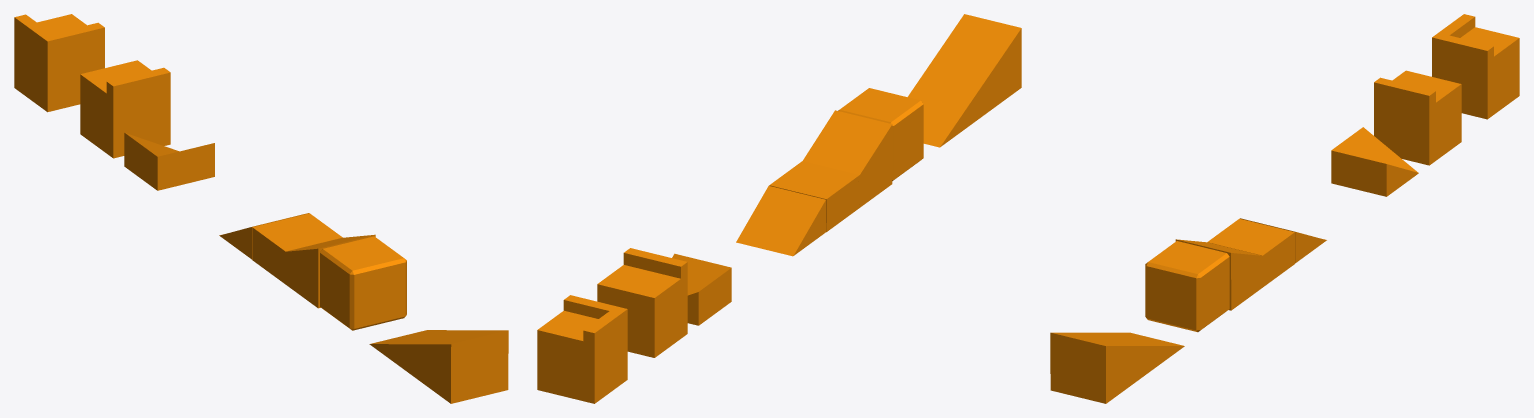
The model's file is sandBlocks.glb.
3 views of the same model, side by side, from view 1: azimuth 30°, elevation 25°; view 2: azimuth 150°, elevation 25°; view 3: azimuth 330°, elevation 25° (orthographic). The views are drawn at different scales.
Visible parts, largest first — view 1: longSlide, edge, cornerEdge, Block, corner, slab, slide, lowerSlide; view 2: longSlide, cornerEdge, edge, slide, lowerSlide, Block, slab, corner; view 3: edge, longSlide, cornerEdge, Block, corner, slab, slide, lowerSlide.
Boxes of the visible parts, <box> form: longSlide: <box>369,330,508,403</box>; edge: <box>80,60,170,158</box>; cornerEdge: <box>14,14,104,112</box>; Block: <box>320,236,406,330</box>; corner: <box>124,132,214,190</box>; slab: <box>252,213,342,283</box>; slide: <box>284,234,375,308</box>; lowerSlide: <box>219,213,309,259</box>; longSlide: <box>908,14,1021,147</box>; cornerEdge: <box>537,295,627,403</box>; edge: <box>597,248,687,357</box>; slide: <box>803,110,892,207</box>; lowerSlide: <box>736,186,826,256</box>; Block: <box>838,88,923,180</box>; slab: <box>769,161,859,231</box>; corner: <box>672,253,731,325</box>; edge: <box>1374,70,1461,165</box>; longSlide: <box>1050,332,1184,403</box>; cornerEdge: <box>1432,14,1519,119</box>; Block: <box>1145,241,1229,332</box>; corner: <box>1331,127,1418,196</box>; slab: <box>1207,218,1294,287</box>; slide: <box>1175,239,1262,310</box>; lowerSlide: <box>1240,218,1326,263</box>.
Size of what is drawn, in the model's own units: 2.16 by 2.4 by 26.09.
